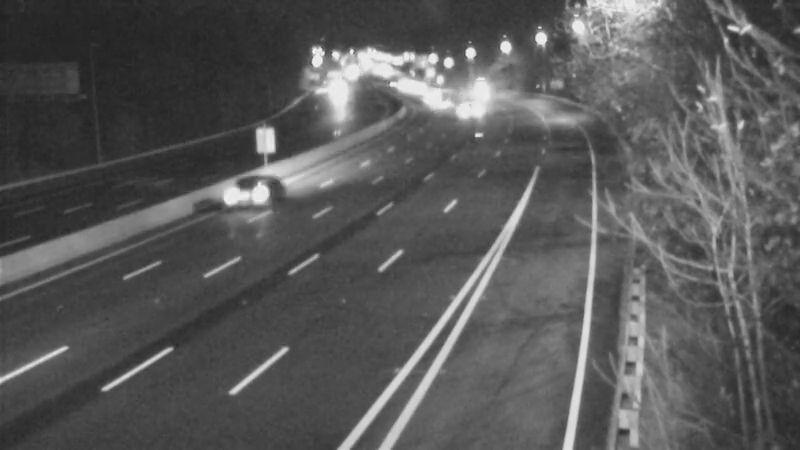vehicle: (202, 156, 282, 236), (454, 63, 504, 113), (403, 72, 453, 122), (411, 80, 461, 130)
